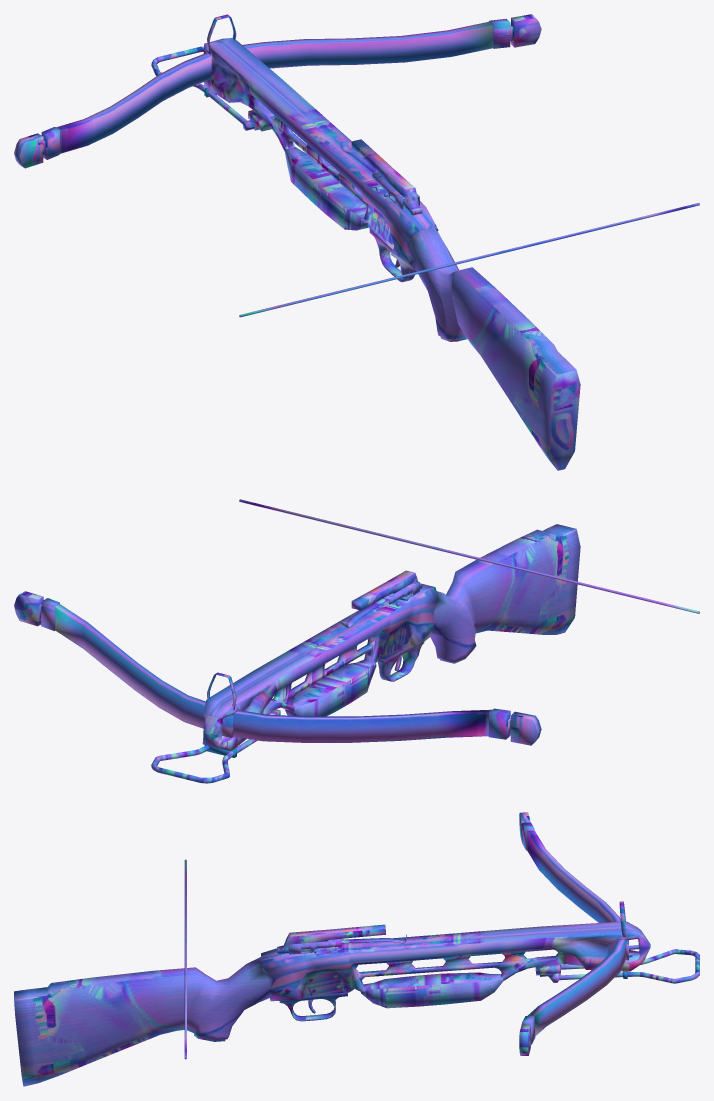
Rendered from Crossbow.glb.
3 views of the same model, one above another, from view 1: azimuth 30°, elevation 25°; view 2: azimuth 150°, elevation 25°; view 3: azimuth 270°, elevation 25° (orthographic). The views are drawn at different scales.
Visible parts, largest first — view 1: Crossbow; view 2: Crossbow; view 3: Crossbow.
Boxes of the visible parts, box(x1,y1,x2,y2) form: Crossbow: box(14, 14, 699, 470); Crossbow: box(14, 499, 699, 783); Crossbow: box(14, 812, 699, 1086).
Bounding box in the file's own units: 7.04 × 2.64 × 9.04.
Materials: 2 (2 with a texture image).
